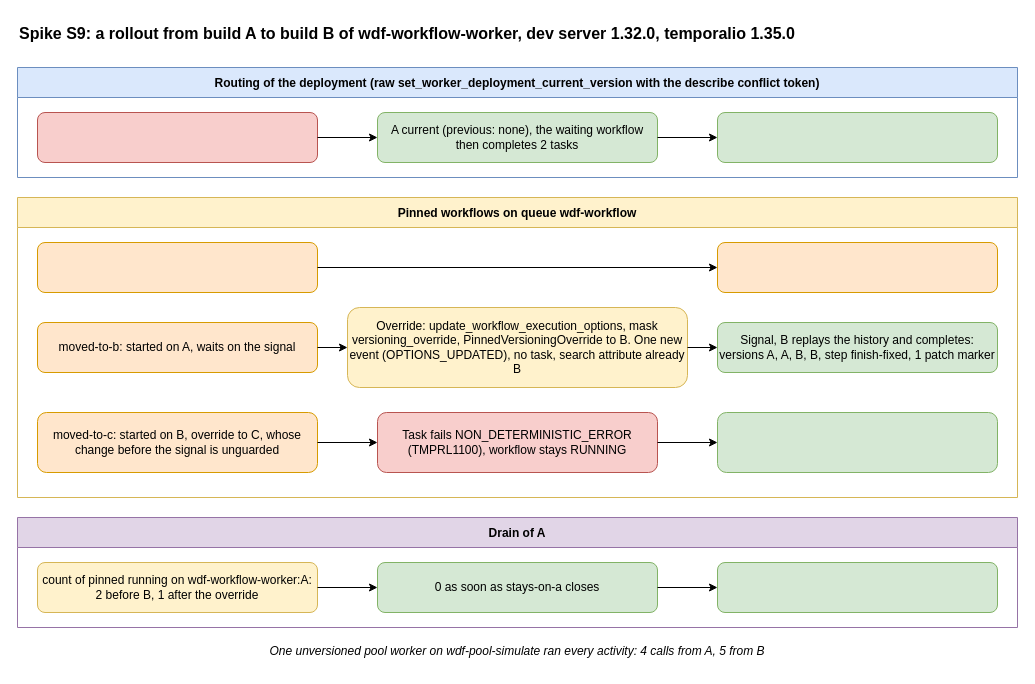
This 1035x684 diagram has some shape labels left out. Here are the shapes that lost their labels. From the top down, the centre of each, then its label:
At (177,137): "No current version: a new workflow completes 0 tasks in 3 s".
At (857,137): "B current (previous: A), new workflows start on B".
At (177,267): "stays-on-a: started on A, waits on the signal".
At (857,267): "Finishes on A while B is current: versions A, A, A, A, step finish-buggy".
At (857,442): "Override back to B, completes on B with finish-fixed".
At (857,587): "describe_worker_deployment_version reports DRAINED 176 s later (server defaults)".
